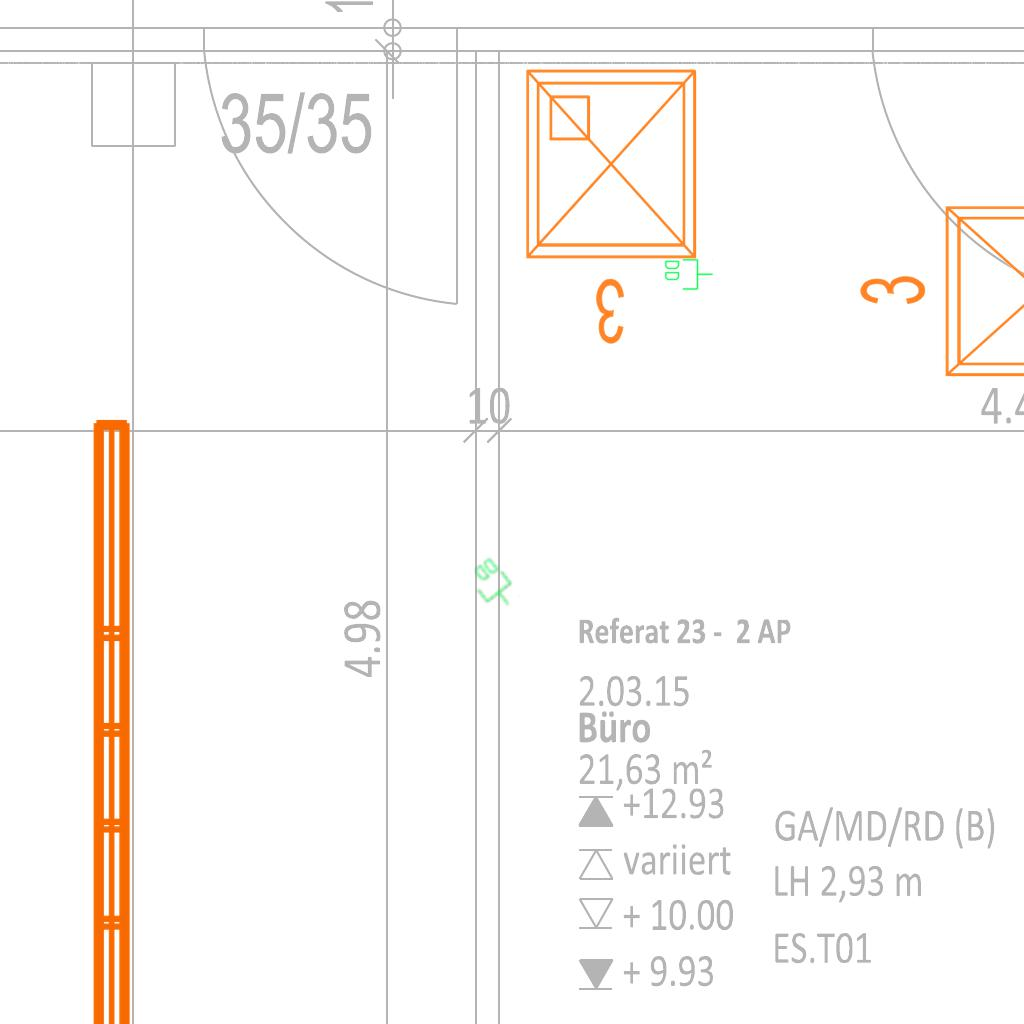Ambulanz_Pendelleuchte_LED: (81, 409, 193, 1024)
Datenanschluss_zweifach: (464, 554, 523, 616), (663, 257, 714, 291)
Einbaudownlights_LED_Konferenzraeume: (511, 55, 719, 355), (849, 191, 1024, 399)
